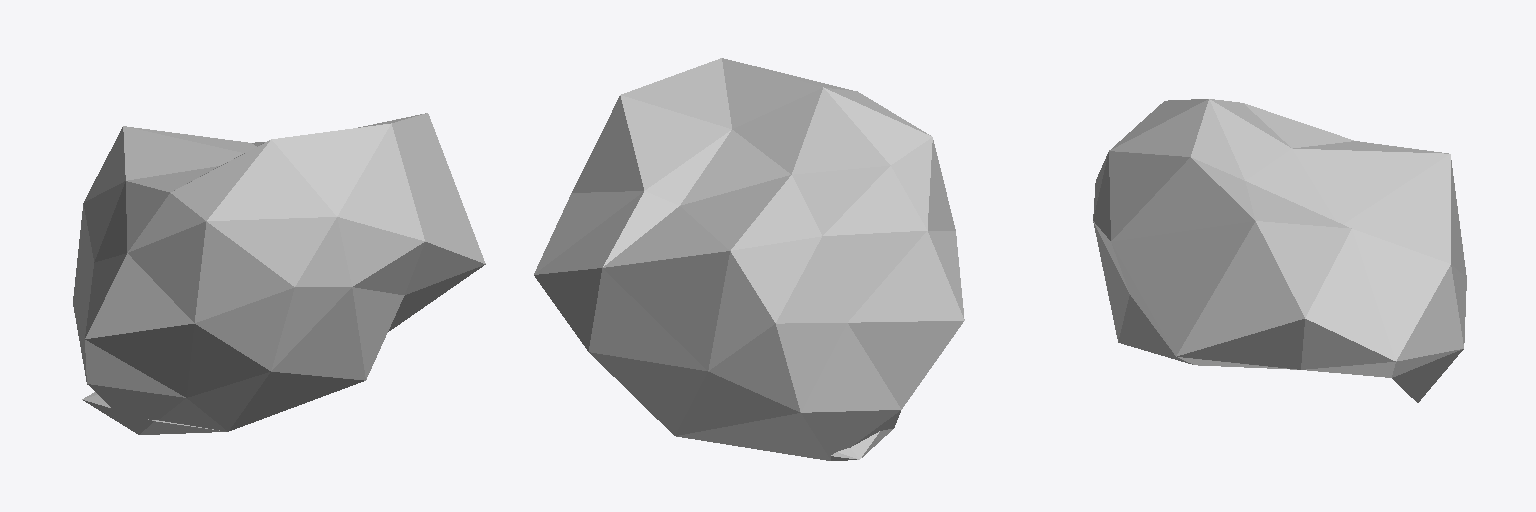
The model's file is prop_v2_1.obj.
The picture shows the model from 3 angles: view 1: azimuth 30°, elevation 25°; view 2: azimuth 150°, elevation 25°; view 3: azimuth 270°, elevation 25°; orthographic projection.
Visible parts, largest first — view 1: prop_v2_1_Icosphere; view 2: prop_v2_1_Icosphere; view 3: prop_v2_1_Icosphere.
Part boxes in pixels (left/top/right/bottom): prop_v2_1_Icosphere: left=73, top=113, right=485, bottom=434; prop_v2_1_Icosphere: left=534, top=58, right=964, bottom=460; prop_v2_1_Icosphere: left=1093, top=99, right=1466, bottom=402.
Size of the model in its own units: 0.2647 by 0.2029 by 0.2331.